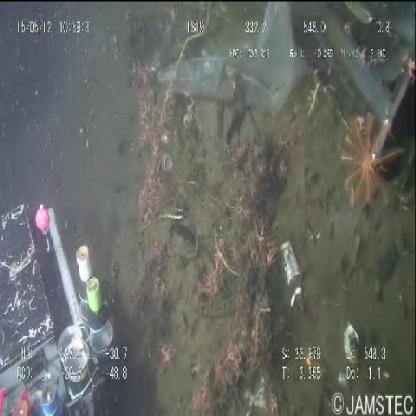Rác: (155, 0, 312, 119)
